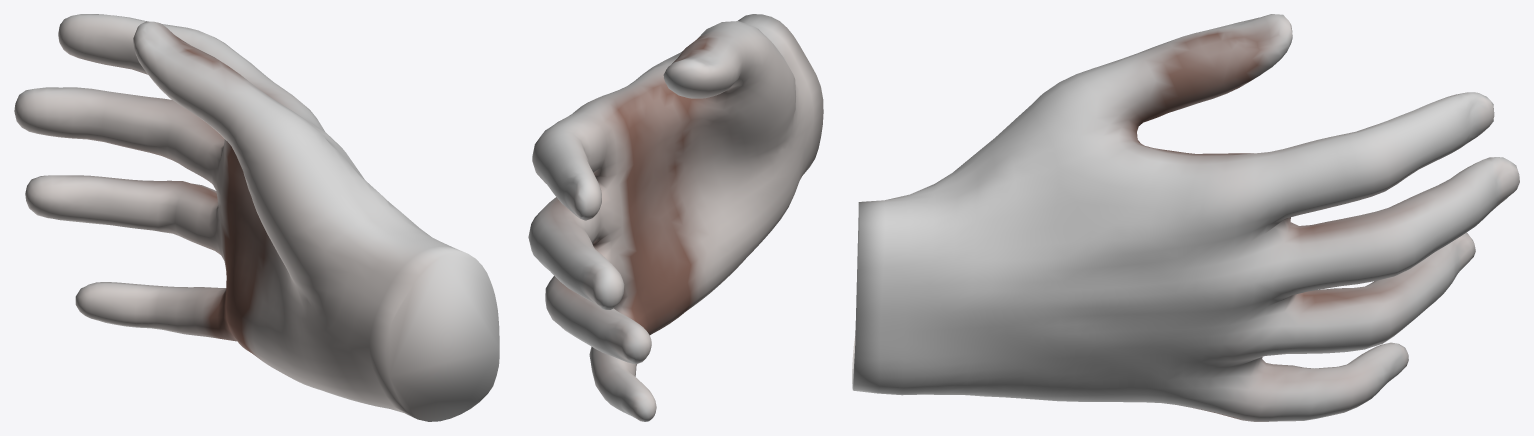
File: fp2_open_skin.glb
3 renders of one model, left to right at view 1: azimuth 30°, elevation 25°; view 2: azimuth 150°, elevation 25°; view 3: azimuth 270°, elevation 25°, orthographic. The views are drawn at different scales.
Visible parts, largest first — view 1: fp2_open_skin; view 2: fp2_open_skin; view 3: fp2_open_skin.
Boxes of the visible parts, x1=… form: fp2_open_skin: x1=14, y1=14, x2=499, y2=421; fp2_open_skin: x1=528, y1=14, x2=823, y2=421; fp2_open_skin: x1=852, y1=14, x2=1519, y2=421.
Bounding box in the file's own units: 0.0771 × 0.1238 × 0.202.
